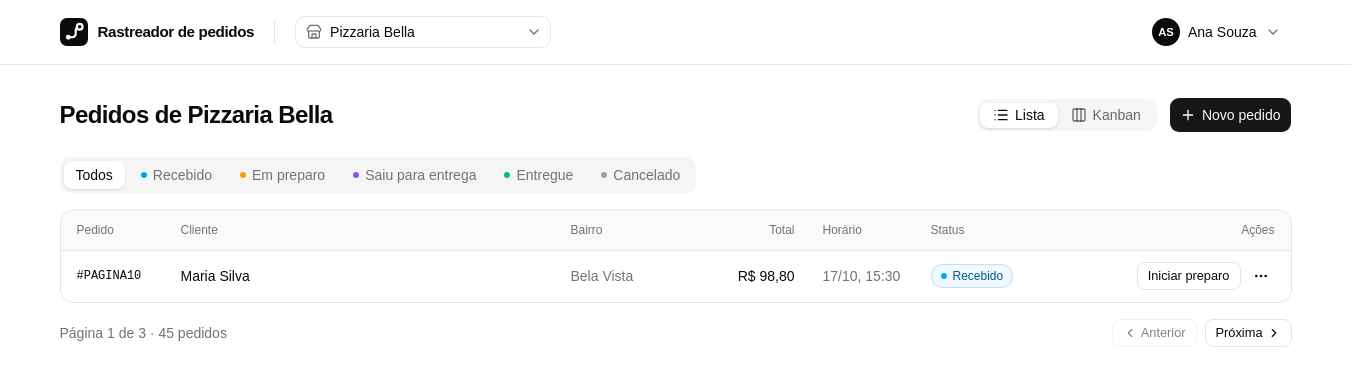
Test case: order list filters › pages through the list and stops at the last page
Expected: the text "Página 1 de 3 · 45 pedidos" is shown, top-left (60, 323), bottom-right (227, 343)
Expected: the button "Anterior" is disabled, top-left (1112, 319), bottom-right (1197, 347)
Click the button "Próxima": x=1248, y=333 top-left (1205, 319), bottom-right (1292, 347)
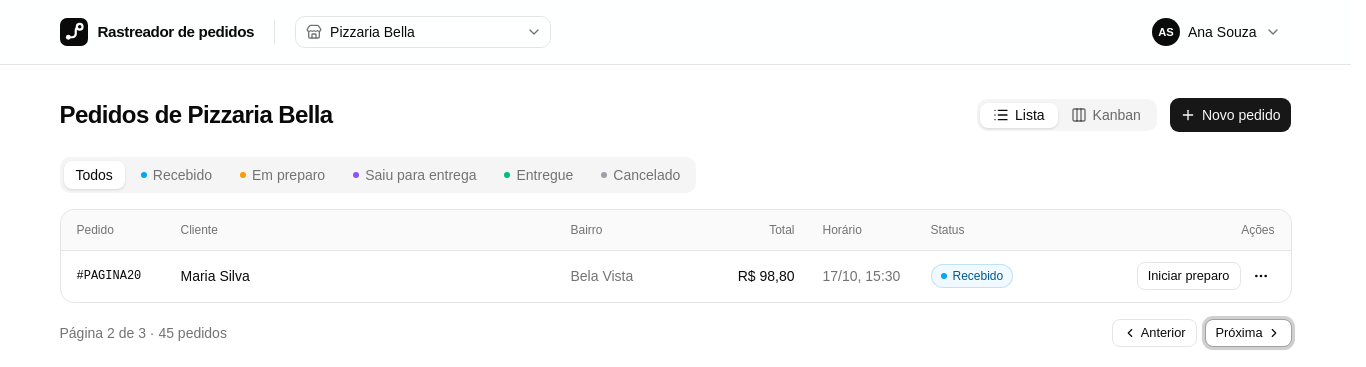
Click the button "Próxima": x=1248, y=333 top-left (1205, 319), bottom-right (1292, 347)
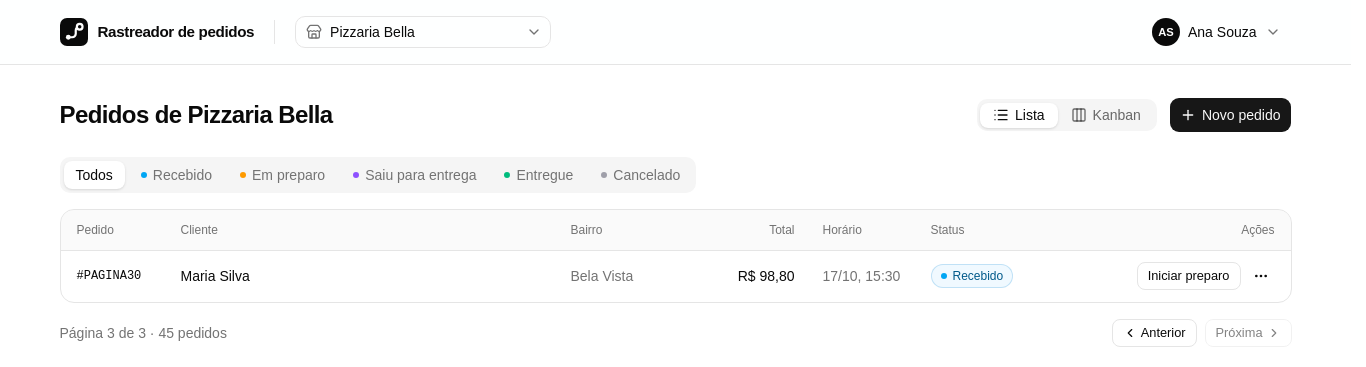
Now the text "Página 3 de 3 · 45 pedidos" is shown, box top-left (60, 323), bottom-right (227, 343)
Now the button "Próxima" is disabled, box top-left (1205, 319), bottom-right (1292, 347)
